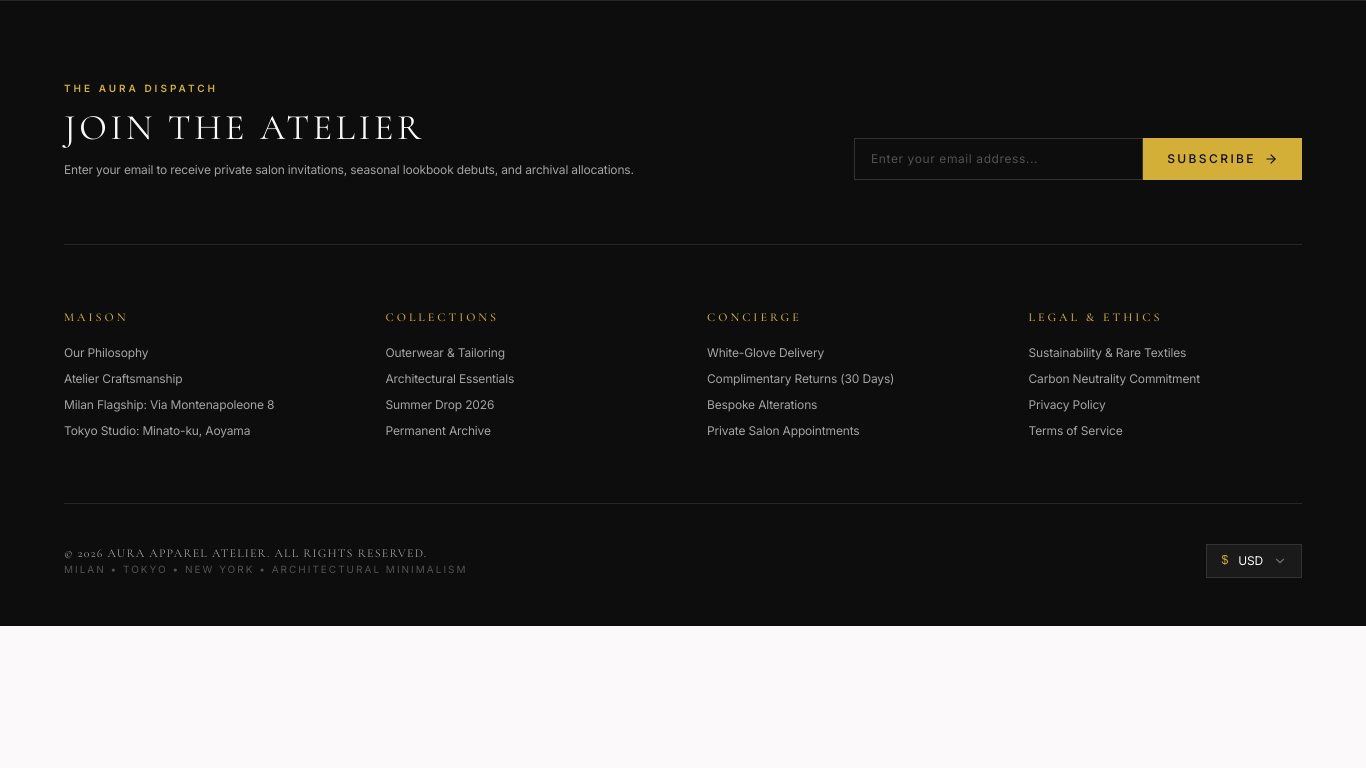
it: Milestone 1: Aura Apparel Responsive Shell Suite › Footer Component › accepts valid email and transitions to luxury confirmation status
The image size is (1366, 768).
(page scrolled)
In the field with test id "newsletter-input": (999, 158) [854,138,1143,180], type "patron@aura-apparel.com"
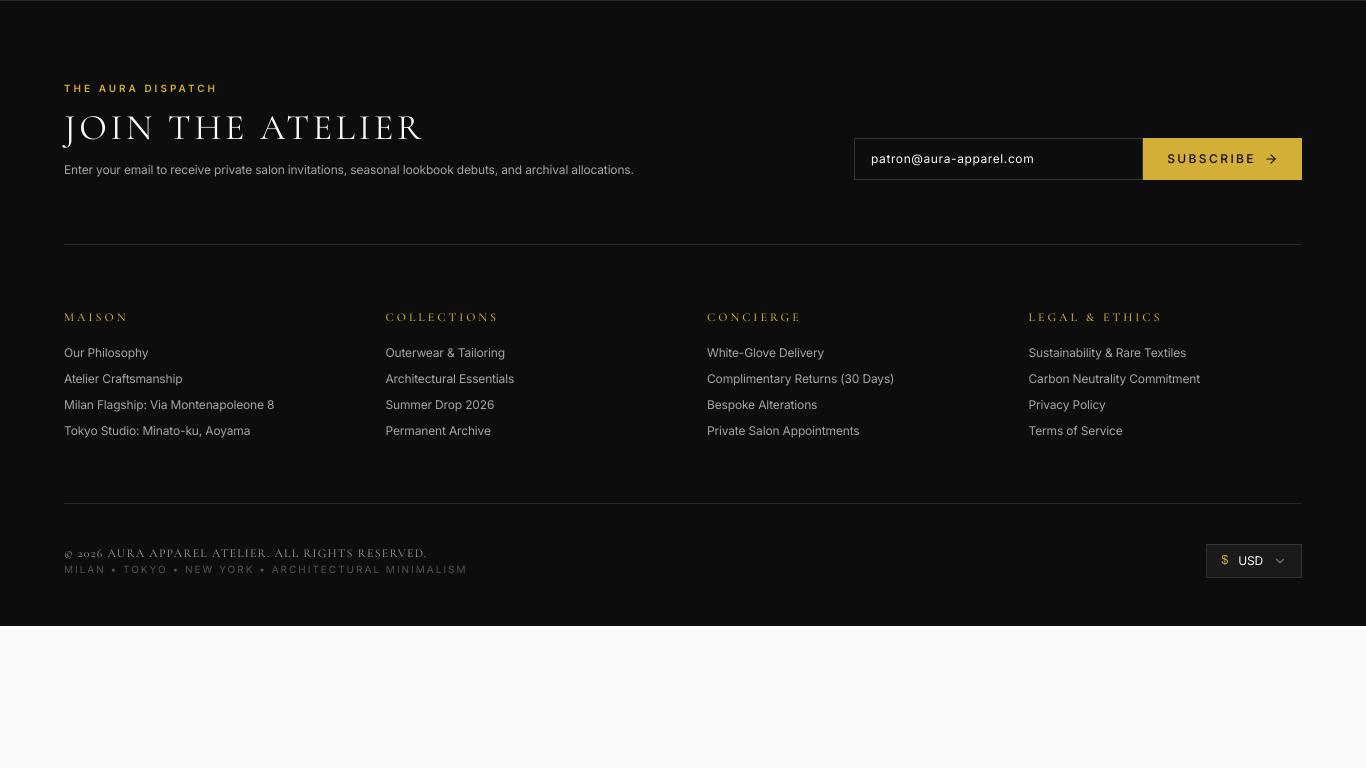
Click the button with test id "newsletter-submit": (1223, 158) [1143,138,1302,180]
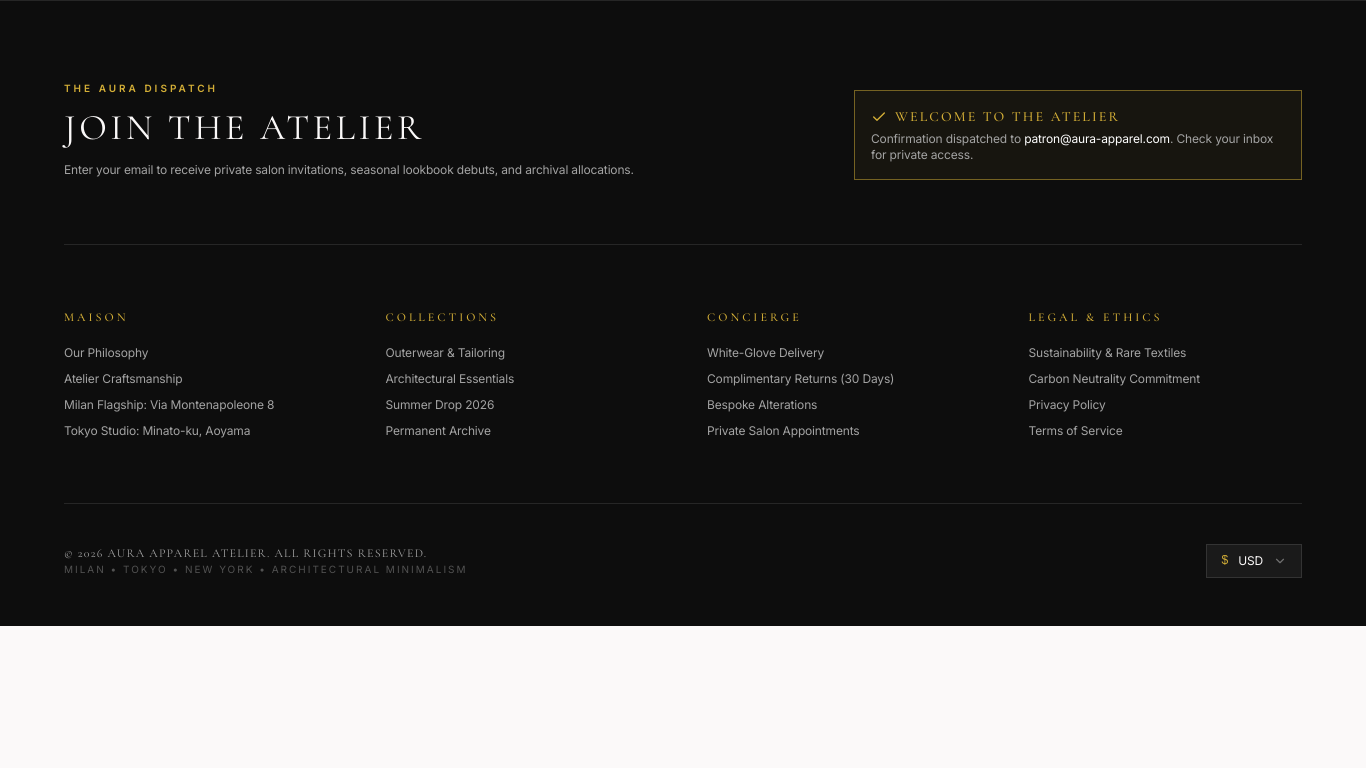
Check: the message with test id "newsletter-success" is shown, box [854,90,1302,180]
Check: the text "WELCOME TO THE ATELIER" is shown, box [895,106,1120,126]
Check: the text "patron@aura-apparel.com" is shown, box [1024,130,1170,146]
